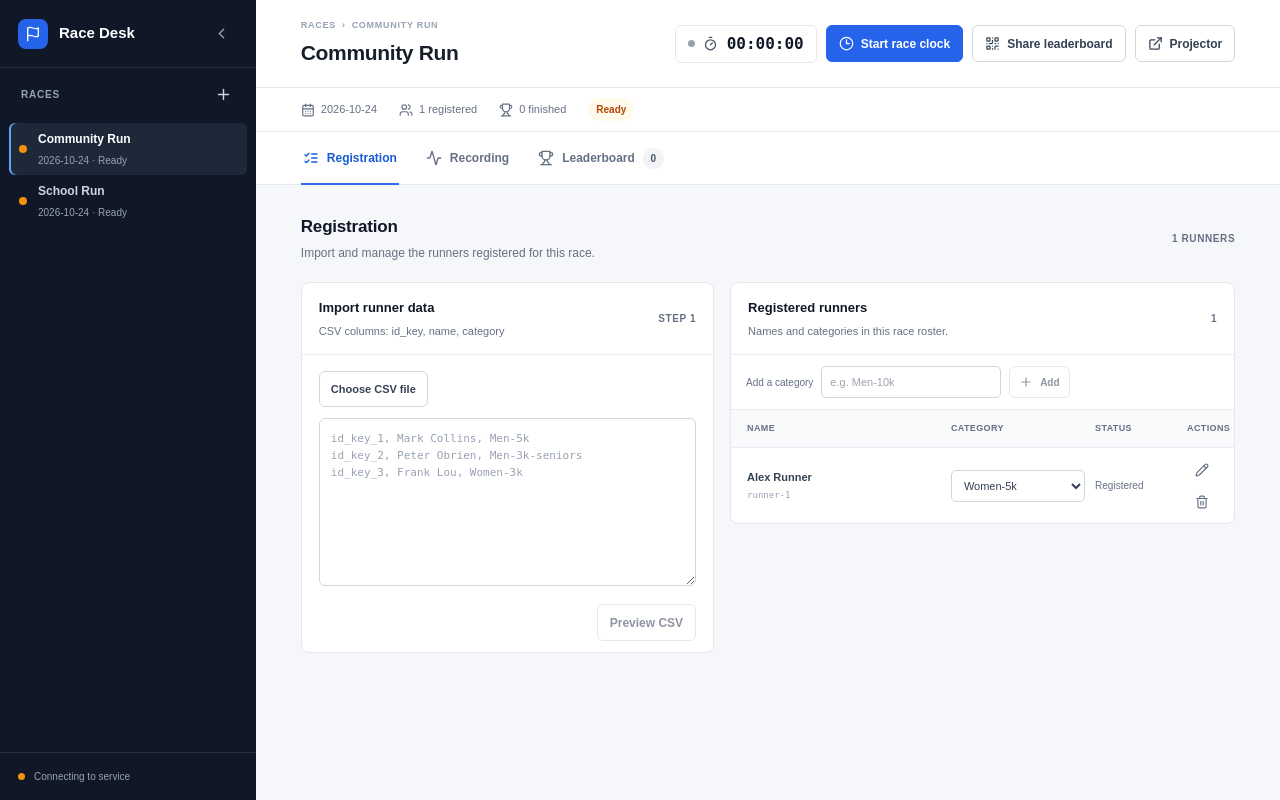
Scenario: race routes and workflows › switches race context when a different race is selected in the sidebar
The image size is (1280, 800).
Click the button "School Run 2026-10-24 · ready": (128, 201) [9,175,247,227]
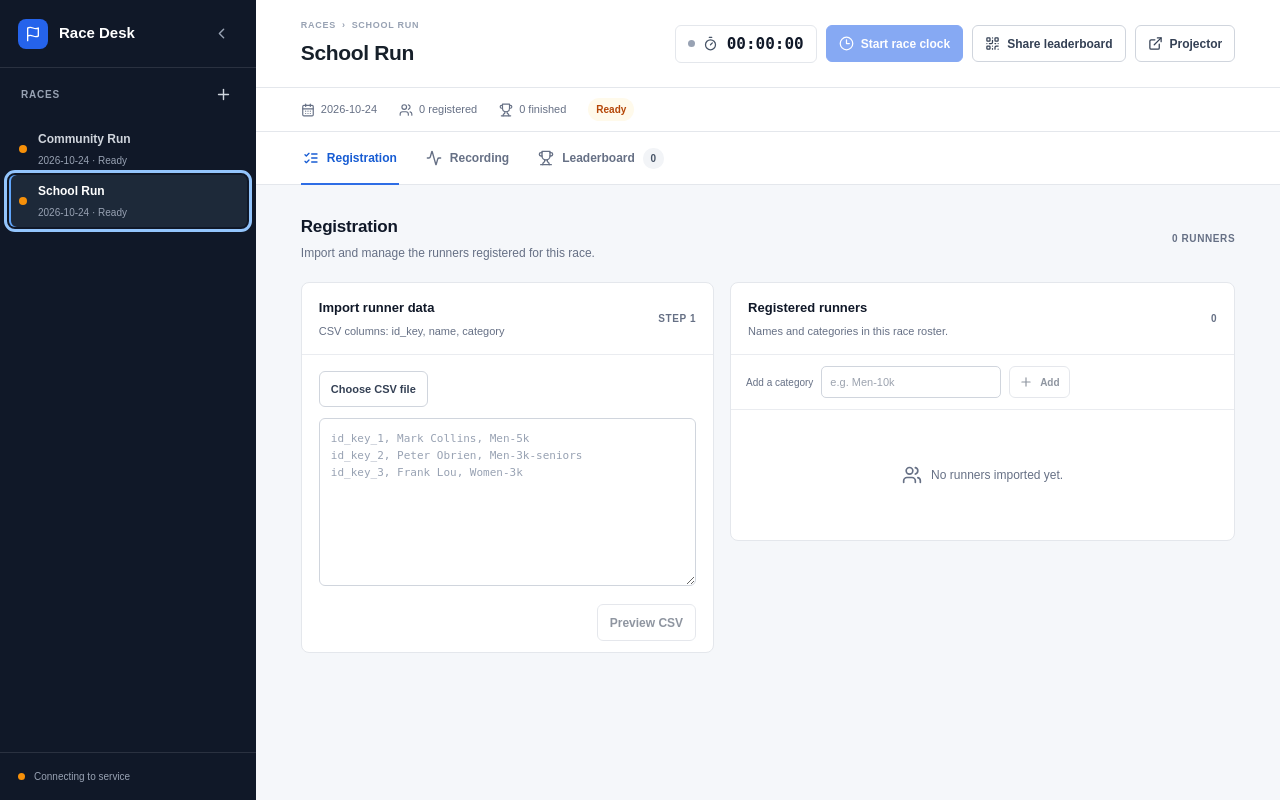
Expected: the heading "School Run" is shown, [301,37,419,68]
